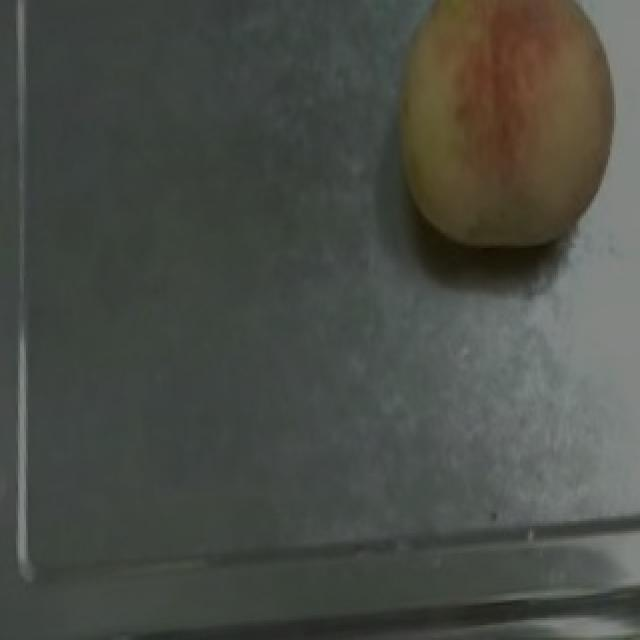Fruit: (358, 0, 640, 270)
